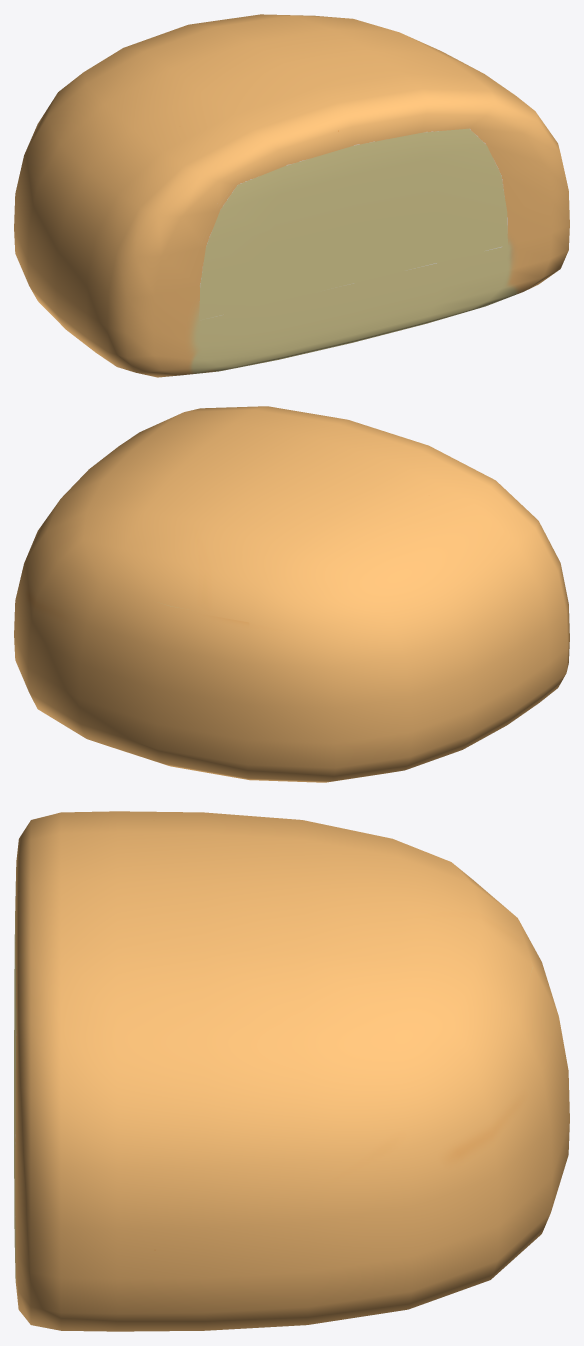
Rendered from bread.fbx.
3 views of the same model, one above another, from view 1: azimuth 30°, elevation 25°; view 2: azimuth 150°, elevation 25°; view 3: azimuth 270°, elevation 25° (orthographic). The views are drawn at different scales.
Parts seen in each view (by area): view 1: Cube; view 2: Cube; view 3: Cube.
Boxes of the visible parts, <box> form: Cube: <box>14,14,569,377</box>; Cube: <box>14,406,569,782</box>; Cube: <box>14,811,569,1331</box>.
Size of the model in its own units: 52.02 by 24.89 by 38.33.
